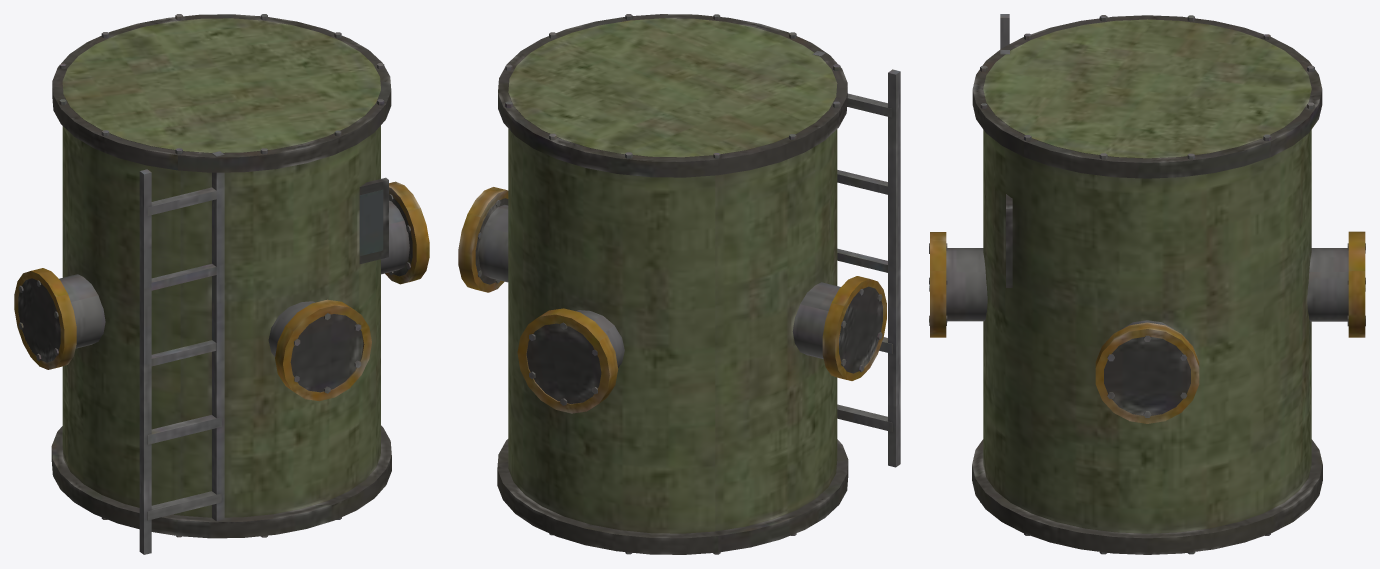
Rendered from feTowerSection.glb.
3 views of the same model, side by side, from view 1: azimuth 30°, elevation 25°; view 2: azimuth 150°, elevation 25°; view 3: azimuth 270°, elevation 25° (orthographic). The views are drawn at different scales.
Parts seen in each view (by area): view 1: feTowerSection_Base; view 2: feTowerSection_Base; view 3: feTowerSection_Base.
Part boxes in pixels (left/top/right/bottom): feTowerSection_Base: left=14, top=14, right=429, bottom=554; feTowerSection_Base: left=458, top=14, right=900, bottom=554; feTowerSection_Base: left=929, top=14, right=1365, bottom=554.
Size of the model in its own units: 1.01 by 1.02 by 1.01.
Materials: 1 (1 with a texture image).
